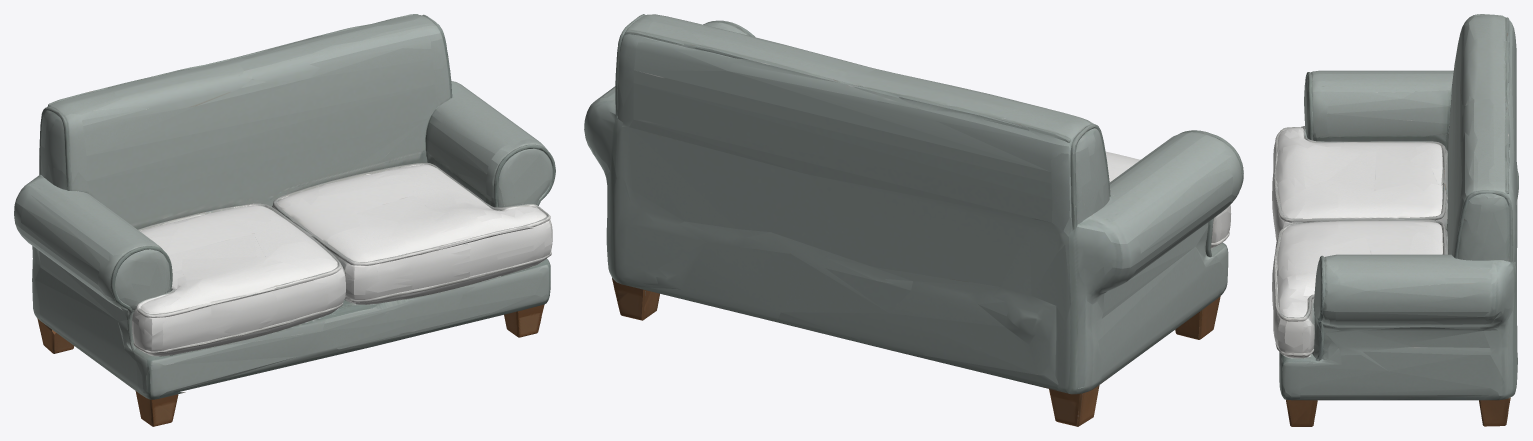
Rendered from raw_sofa.glb.
3 renders of one model, left to right at view 1: azimuth 30°, elevation 25°; view 2: azimuth 150°, elevation 25°; view 3: azimuth 270°, elevation 25°, orthographic. The views are drawn at different scales.
Size of the model in its own units: 1.9 by 0.9759 by 0.9212.
1 material, 1 textured.
